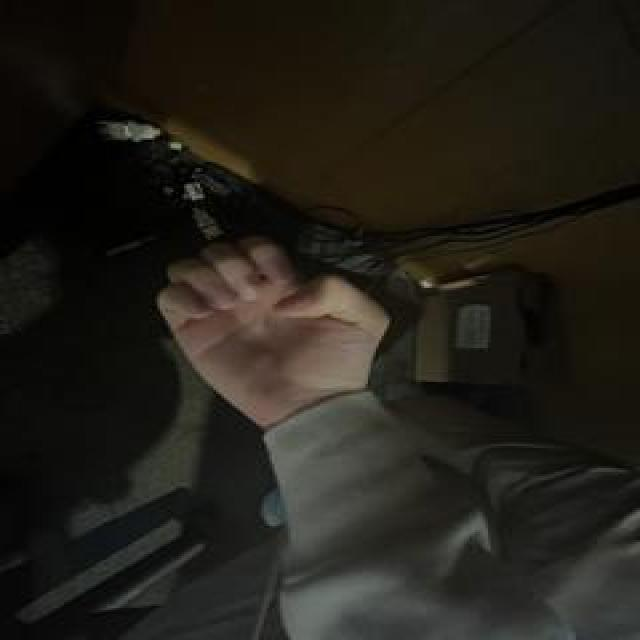E: (152, 227, 397, 431)
